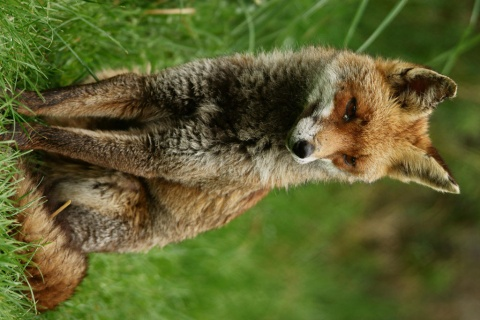Fox: (0, 38, 461, 316)
